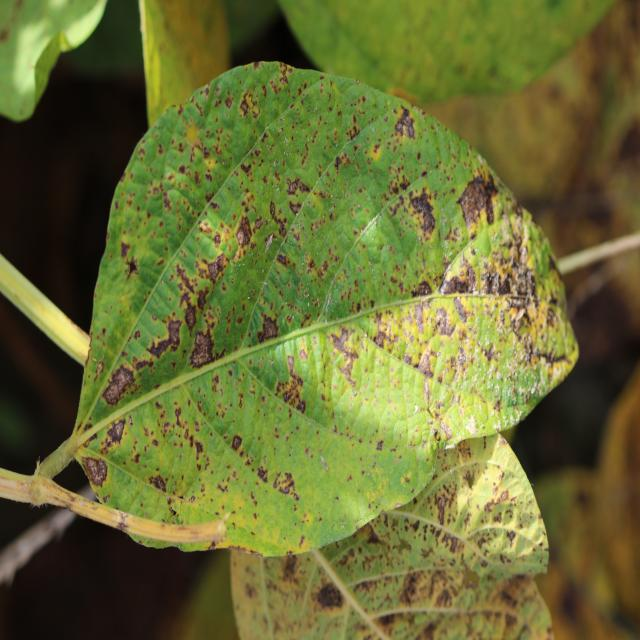Bacterial_Blight: (455, 171, 498, 229), (412, 171, 440, 239), (278, 358, 307, 412), (146, 317, 182, 360), (507, 252, 539, 299), (102, 363, 135, 407), (329, 326, 358, 372), (189, 329, 215, 368), (81, 454, 109, 487), (439, 269, 472, 295), (392, 106, 416, 141), (268, 199, 289, 239), (257, 313, 280, 345), (271, 469, 298, 496), (532, 345, 566, 366), (205, 253, 228, 284), (239, 87, 260, 119), (104, 418, 126, 448), (434, 306, 454, 335), (234, 216, 252, 247), (418, 348, 436, 378), (285, 176, 309, 197), (334, 150, 353, 175), (511, 308, 527, 334), (482, 340, 498, 364), (412, 279, 432, 298), (125, 255, 139, 280), (184, 306, 197, 331), (148, 475, 166, 493), (117, 511, 130, 533), (440, 420, 453, 441), (256, 465, 269, 483), (369, 142, 382, 160), (120, 241, 131, 259), (276, 253, 289, 268), (264, 234, 274, 253), (269, 201, 278, 221), (231, 435, 242, 451), (194, 440, 204, 457), (95, 359, 105, 375), (254, 216, 263, 230), (224, 96, 233, 109), (376, 439, 384, 451), (432, 427, 439, 438), (296, 303, 300, 312), (356, 285, 360, 292)
Soybean: (38, 64, 578, 555)
